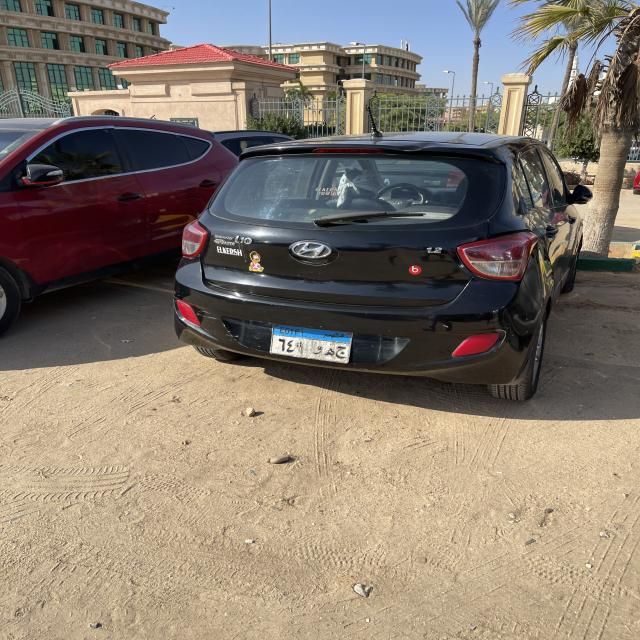License Plate: (270, 324, 353, 364)
